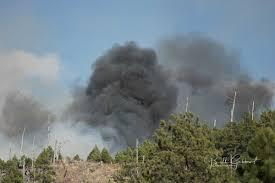smoke: (1, 38, 273, 143)
